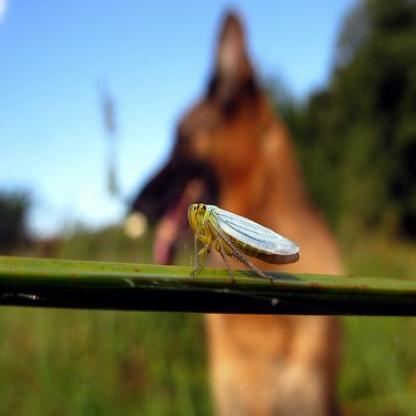Green-Leafhopper: (179, 200, 302, 268)
